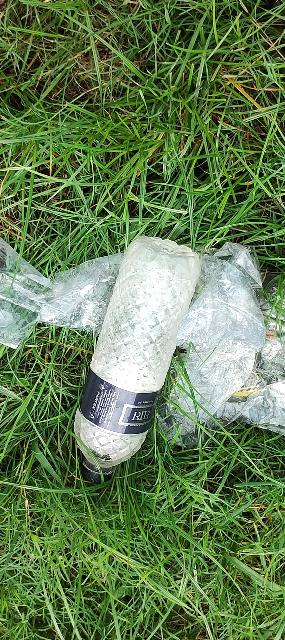bottle: (81, 232, 197, 482)
